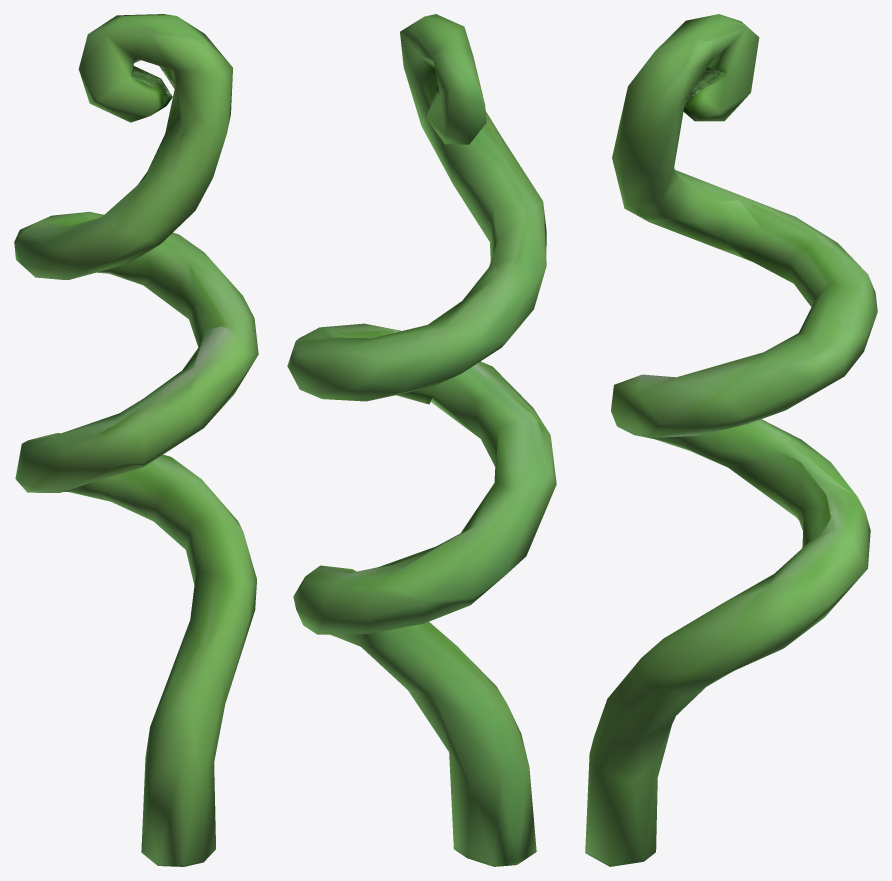
Rendered from vine-coil.glb.
3 renders of one model, left to right at view 1: azimuth 30°, elevation 25°; view 2: azimuth 150°, elevation 25°; view 3: azimuth 270°, elevation 25°, orthographic. The views are drawn at different scales.
Bounding box in the file's own units: 0.5402 × 2.01 × 0.6401.
1 material, 1 textured.
